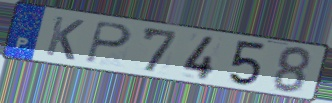4: (180, 34, 217, 82)
5: (225, 38, 270, 88)
7: (141, 26, 181, 74)
8: (271, 45, 315, 95)
K: (43, 14, 87, 62)
P: (84, 19, 134, 65)
